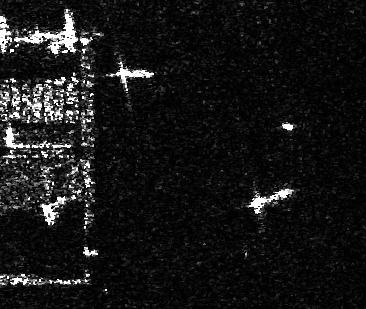ship: (249, 185, 293, 213), (115, 64, 157, 83)
